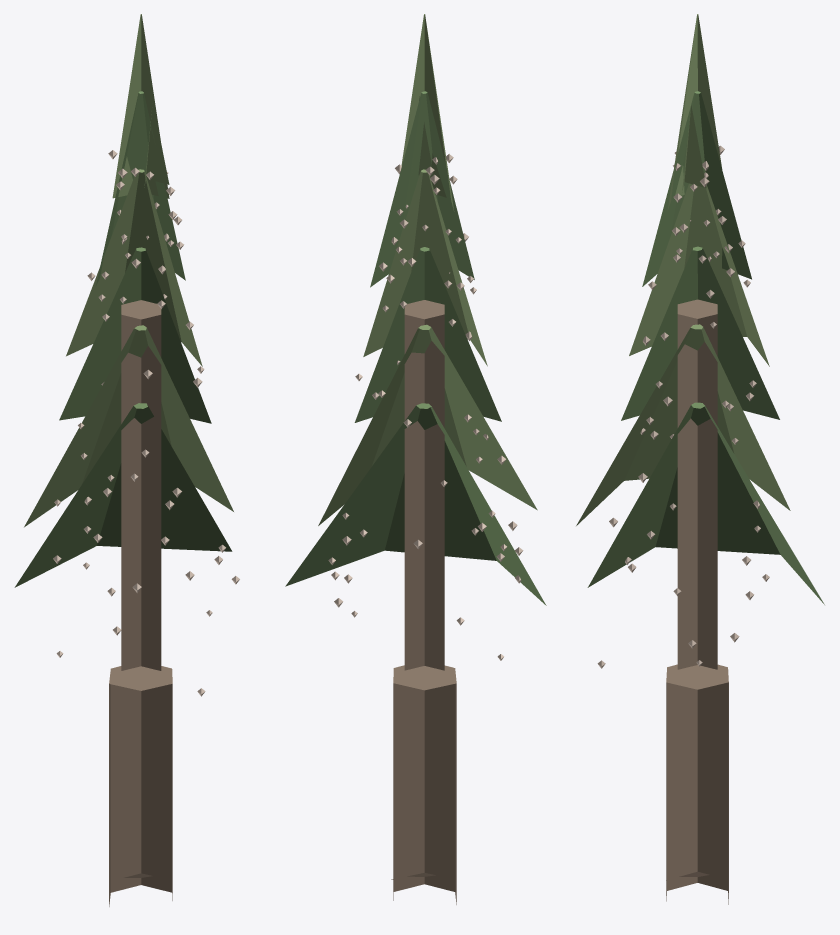
The model's file is shu.luoye__bloom.glb.
The picture shows the model from 3 angles, left to right: view 1: azimuth 30°, elevation 25°; view 2: azimuth 150°, elevation 25°; view 3: azimuth 270°, elevation 25°; orthographic projection.
Visible parts, largest first — view 1: shu.luoye__bloom; view 2: shu.luoye__bloom; view 3: shu.luoye__bloom.
Part boxes in pixels (bbox=[...]): shu.luoye__bloom: bbox=[14, 14, 239, 906]; shu.luoye__bloom: bbox=[285, 14, 546, 904]; shu.luoye__bloom: bbox=[576, 14, 824, 904].
Size of the model in its own units: 4.86 by 18.97 by 4.86.
